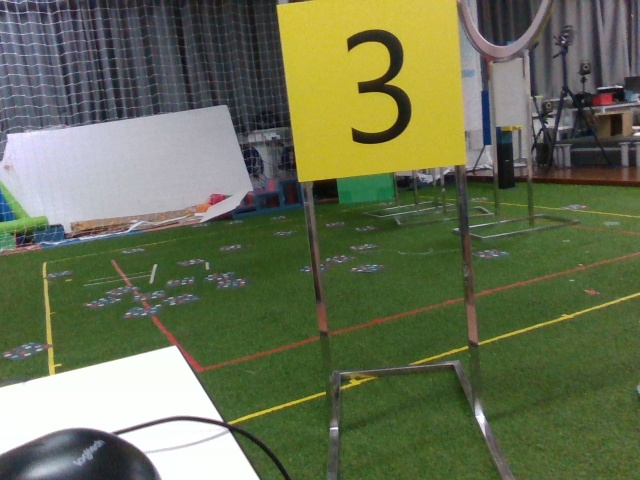target: (287, 10, 461, 164)
